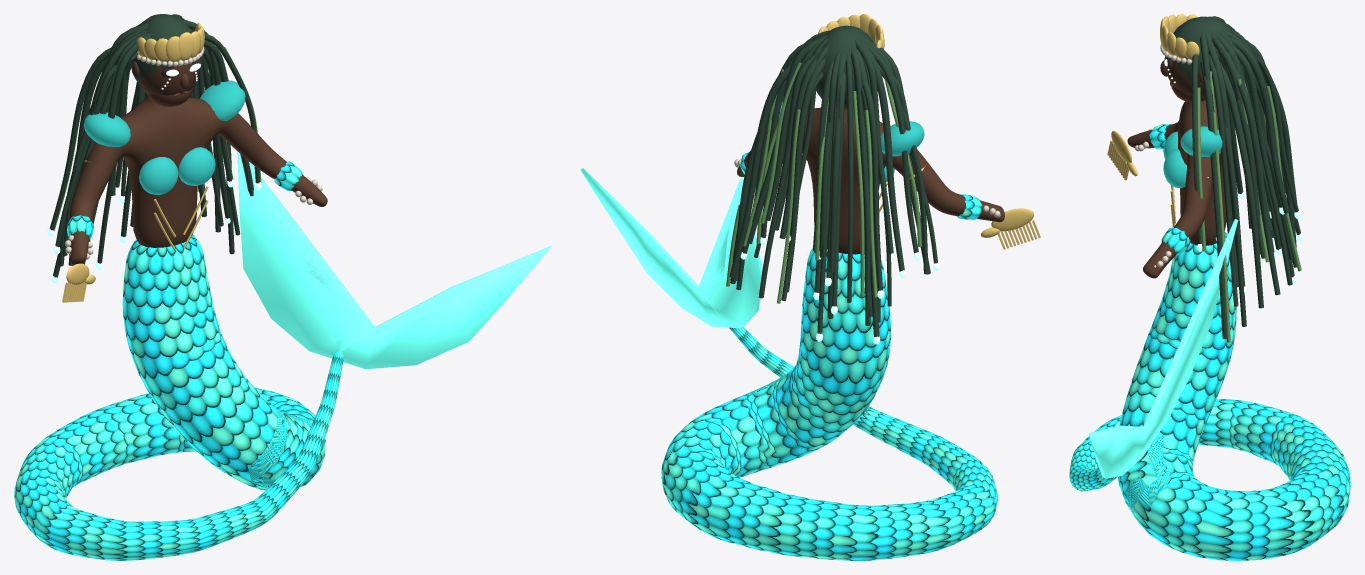
Rendered from river-mumma.glb.
3 views of the same model, side by side, from view 1: azimuth 30°, elevation 25°; view 2: azimuth 150°, elevation 25°; view 3: azimuth 270°, elevation 25° (orthographic). The views are drawn at different scales.
Parts seen in each view (by area): view 1: RiverMumma; view 2: RiverMumma; view 3: RiverMumma.
Boxes of the visible parts, x1=… form: RiverMumma: x1=14, y1=14, x2=551, y2=560; RiverMumma: x1=580, y1=14, x2=1040, y2=560; RiverMumma: x1=1069, y1=14, x2=1350, y2=560.
Bounding box in the file's own units: 4.4 × 4.31 × 2.29.
Materials: 11 (1 with a texture image).
